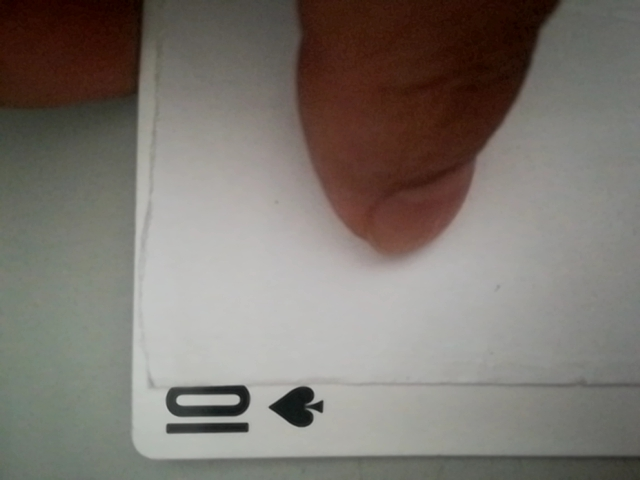ht 10: (145, 375, 328, 454)
